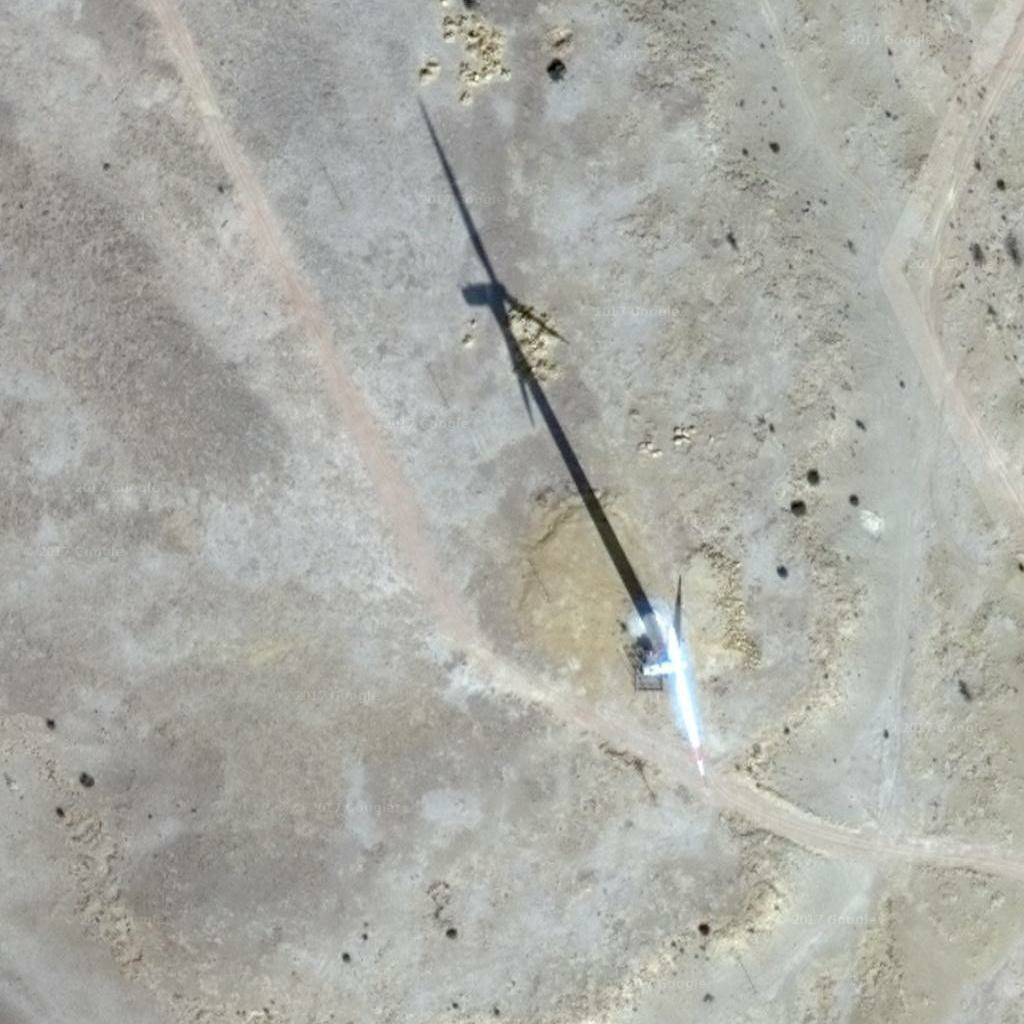Windmill: (408, 89, 676, 631)
